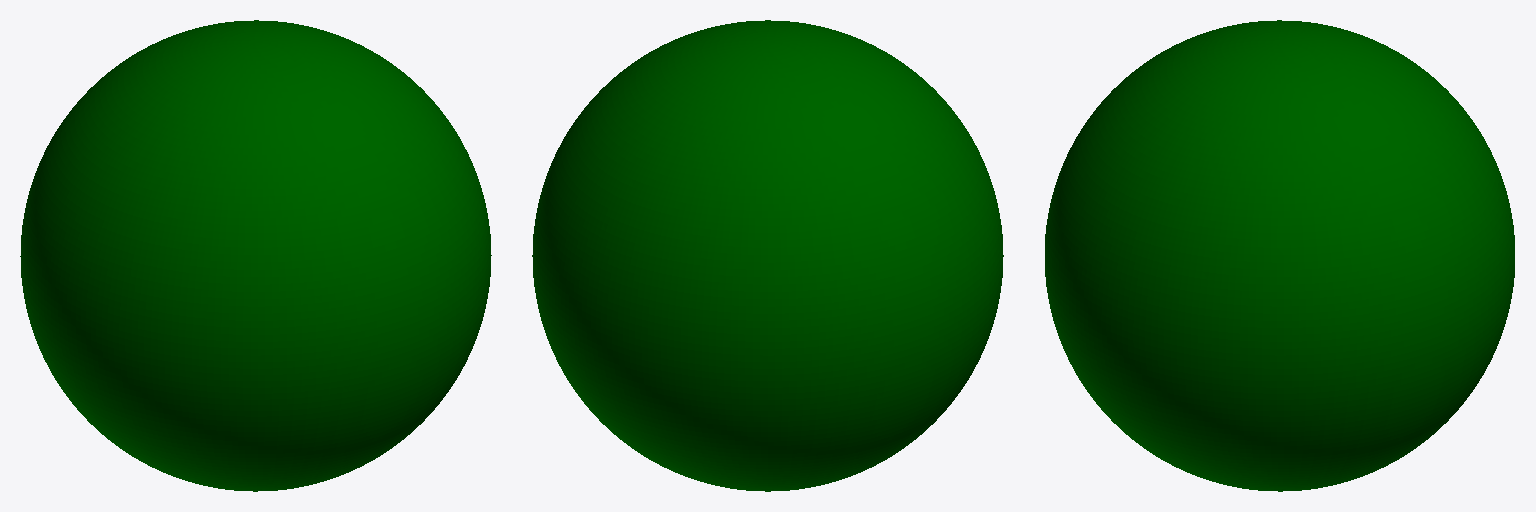
Rendered from Esfera.obj.
3 views of the same model, side by side, from view 1: azimuth 30°, elevation 25°; view 2: azimuth 150°, elevation 25°; view 3: azimuth 270°, elevation 25° (orthographic).
Parts seen in each view (by area): view 1: Sphere001; view 2: Sphere001; view 3: Sphere001.
Boxes of the visible parts, <box> form: Sphere001: <box>20,20,491,491</box>; Sphere001: <box>532,20,1003,491</box>; Sphere001: <box>1045,20,1514,491</box>.
Bounding box in the file's own units: 117 × 117 × 117.